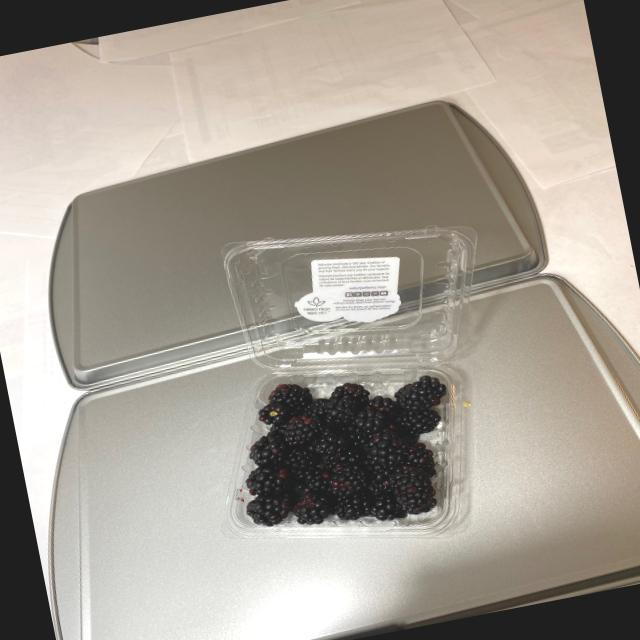blackberries: (222, 345, 480, 532)
